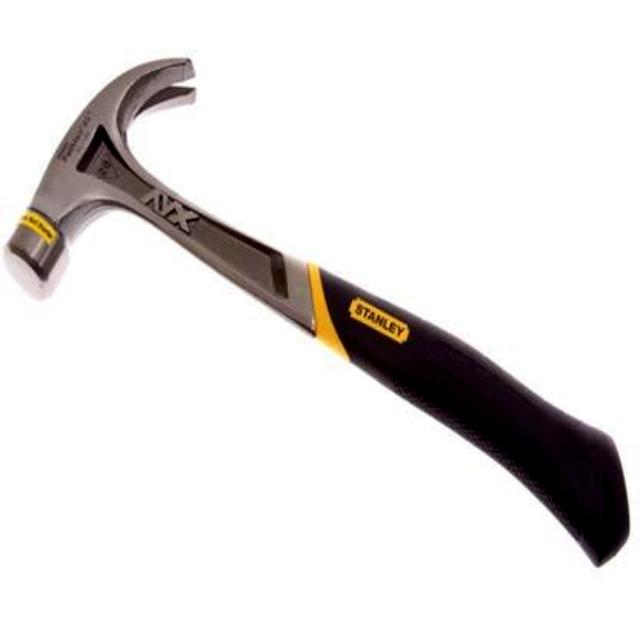hammer: (2, 51, 640, 591)
